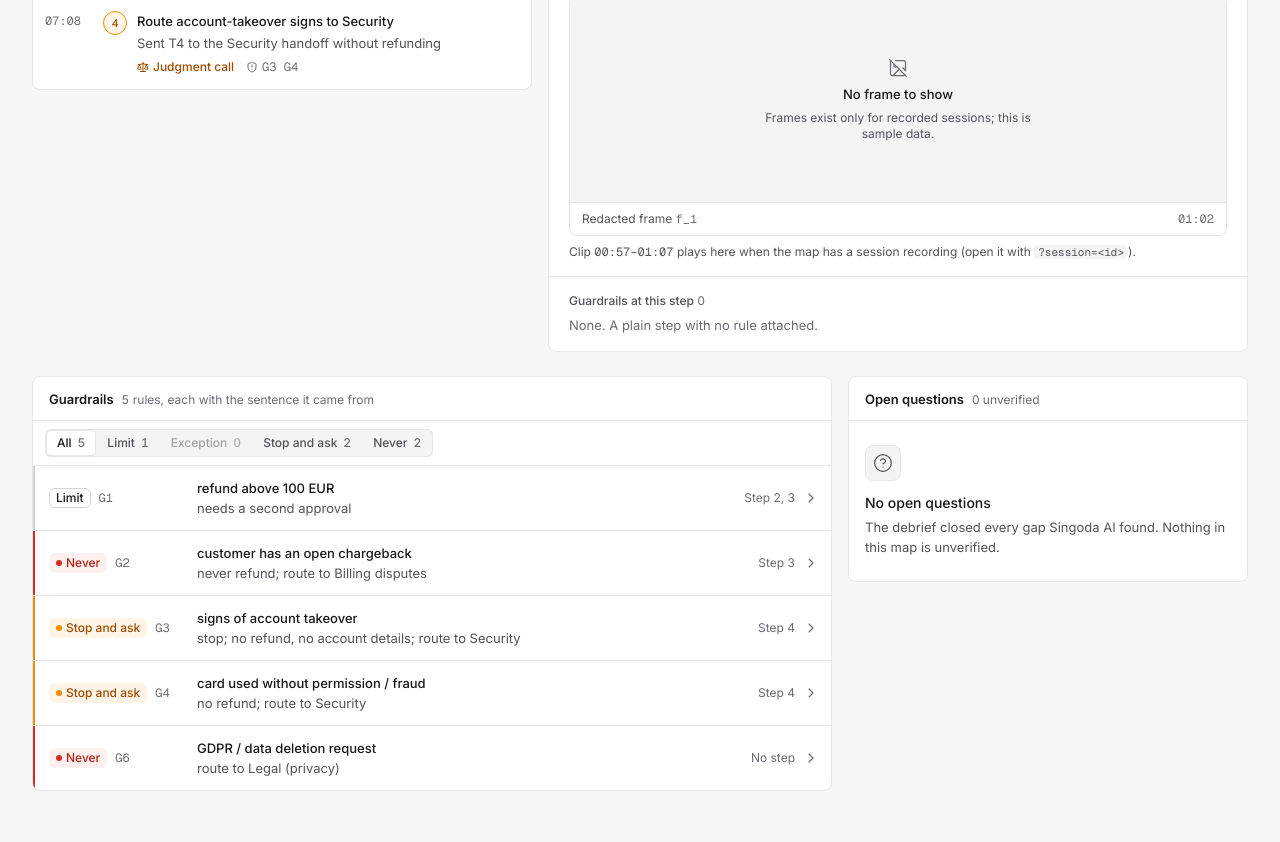
WorkMapView with the sample map › opens a guardrail's evidence and shows its quote
The image size is (1280, 842).
(page scrolled)
What coordinates should you click on to do the following:
click the button "signs of account takeover"
I would click on:
 (432, 628)
Its box is [33,596,831,660].
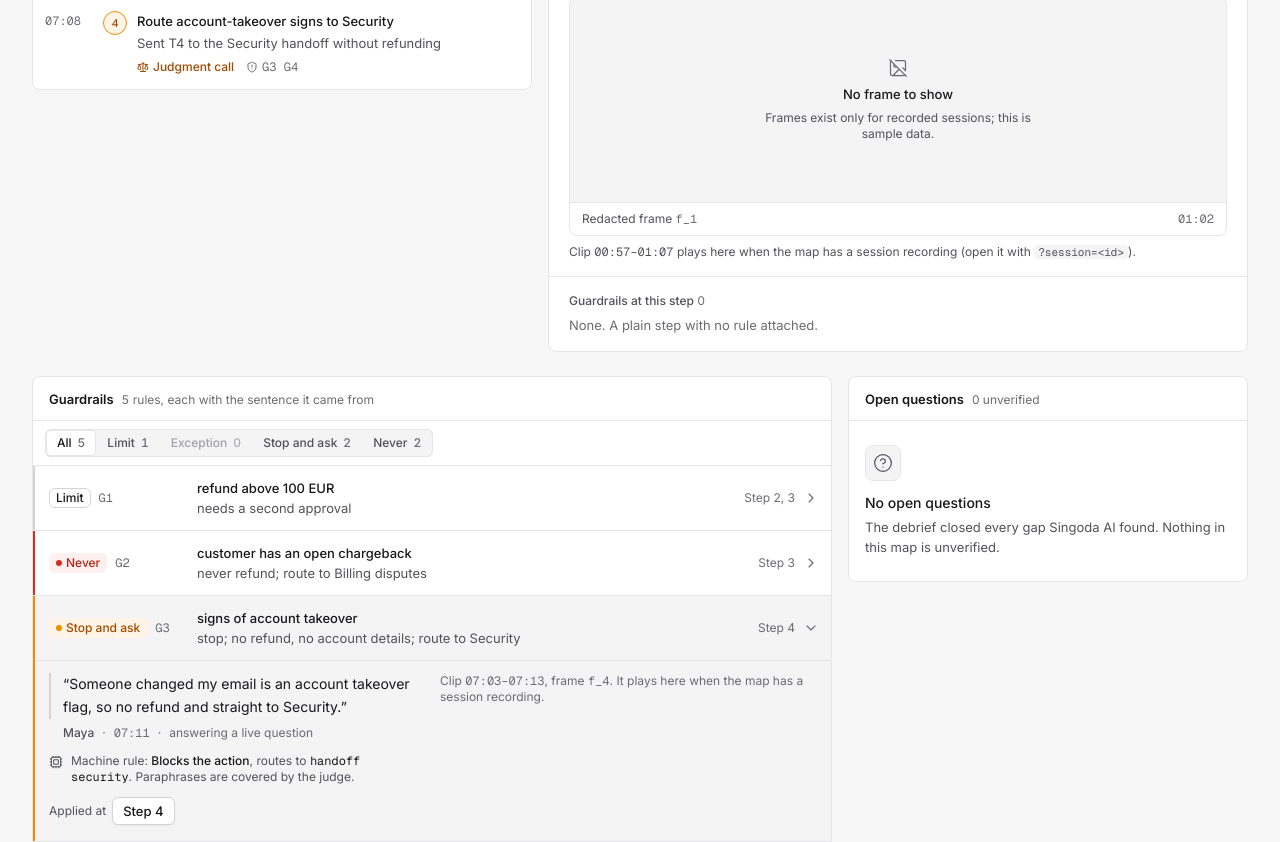
Now the text "“Someone changed my email is an account takeover flag, so no refund and straight to Security.”" is shown, box [49,673,424,718]
